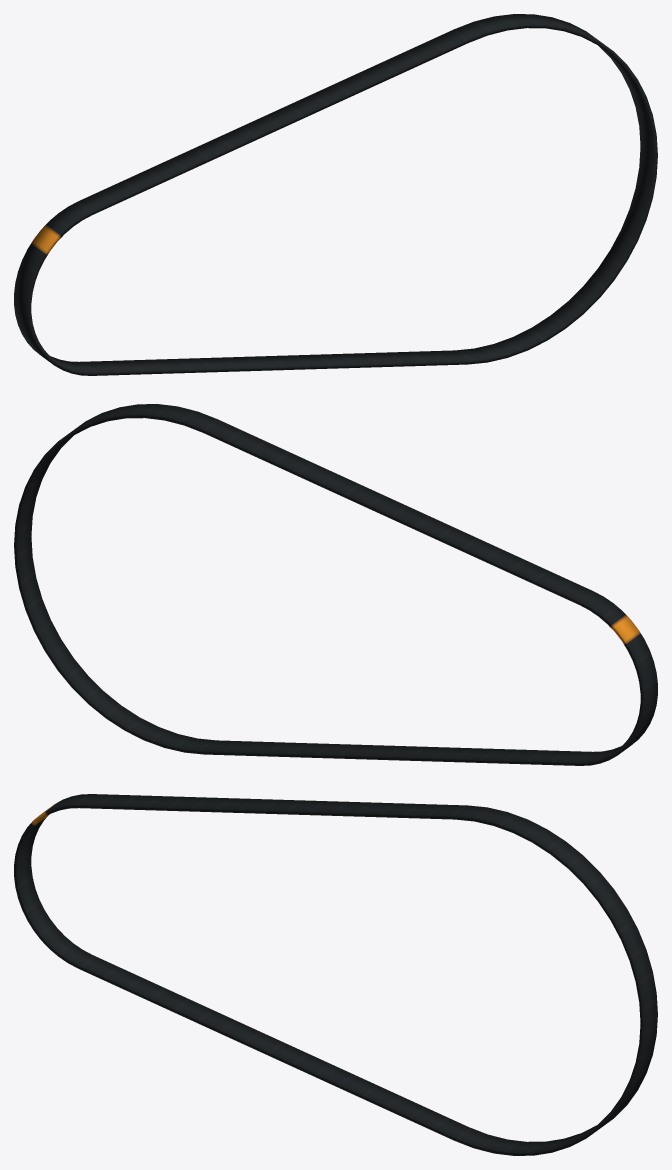
Rendered from VLAB_belt_Open100.fbx.
The picture shows the model from 3 angles, top to bottom: view 1: azimuth 30°, elevation 25°; view 2: azimuth 150°, elevation 25°; view 3: azimuth 330°, elevation 25°; orthographic projection.
Visible parts, largest first — view 1: VLAB_belt_BeltSurface_Open100_VIS; view 2: VLAB_belt_BeltSurface_Open100_VIS; view 3: VLAB_belt_BeltSurface_Open100_VIS.
Boxes of the visible parts, box(x1,y1,x2,y2) form: VLAB_belt_BeltSurface_Open100_VIS: box(14, 14, 657, 375); VLAB_belt_BeltSurface_Open100_VIS: box(14, 404, 657, 765); VLAB_belt_BeltSurface_Open100_VIS: box(14, 794, 657, 1155).
Size of the model in its own units: 16.1 by 8.09 by 0.6.
